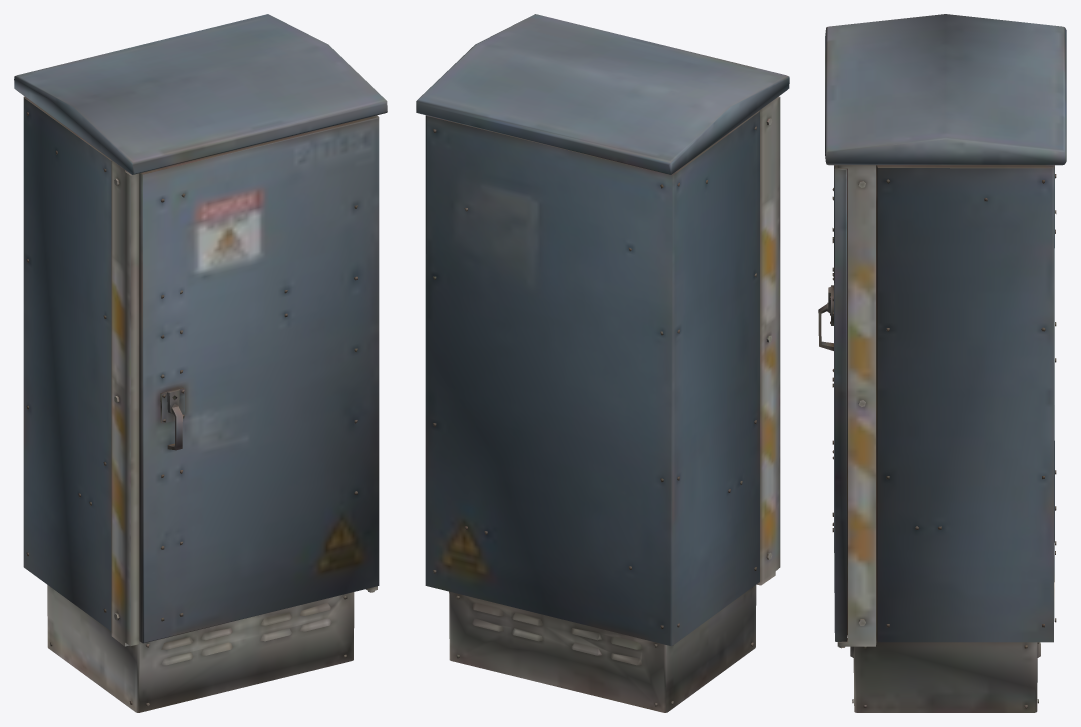
File: utility_box_01.glb
The picture shows the model from 3 angles, left to right: view 1: azimuth 30°, elevation 25°; view 2: azimuth 150°, elevation 25°; view 3: azimuth 270°, elevation 25°; orthographic projection.
Parts seen in each view (by area): view 1: utility_box_01_box; view 2: utility_box_01_box; view 3: utility_box_01_box.
Part boxes in pixels (box(x1,y1,x2,y2)): utility_box_01_box: box(14, 14, 387, 712); utility_box_01_box: box(416, 14, 789, 712); utility_box_01_box: box(818, 14, 1066, 712).
Size of the model in its own units: 0.5182 by 1.12 by 0.4312.
1 material, 1 textured.
